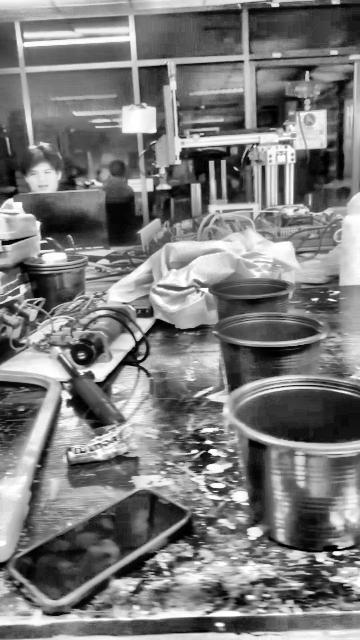pot: (224, 375, 359, 551), (215, 312, 327, 392), (19, 260, 91, 310), (210, 278, 292, 319)
